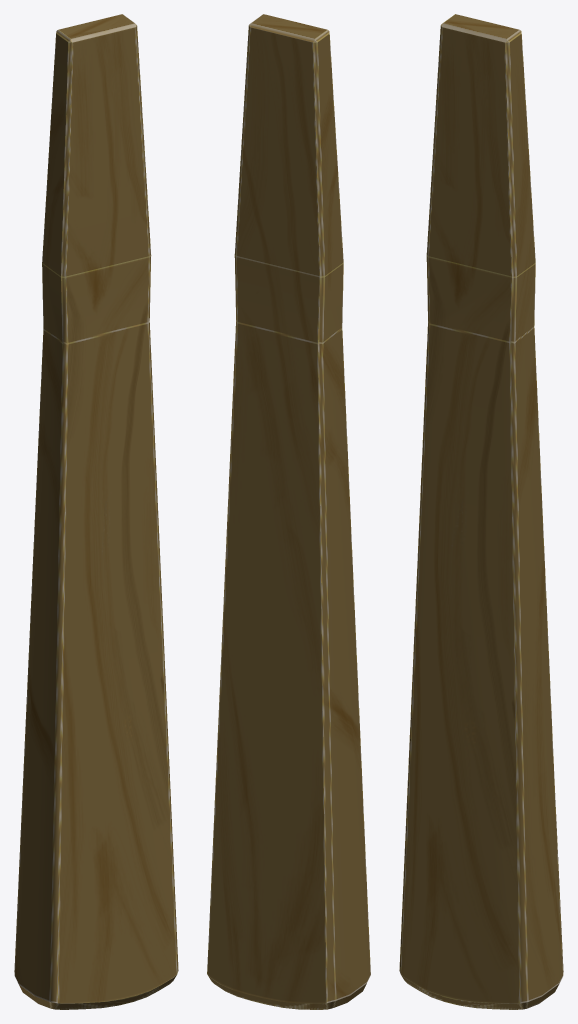
The picture shows the model from 3 angles, left to right: view 1: azimuth 30°, elevation 25°; view 2: azimuth 150°, elevation 25°; view 3: azimuth 330°, elevation 25°; orthographic projection.
Visible parts, largest first — view 1: hammerwood_pCube2; view 2: hammerwood_pCube2; view 3: hammerwood_pCube2.
Part boxes in pixels (bbox=[...]): hammerwood_pCube2: bbox=[14, 14, 178, 1009]; hammerwood_pCube2: bbox=[207, 14, 370, 1009]; hammerwood_pCube2: bbox=[399, 14, 563, 1009].
Size of the model in its own units: 1.64 by 10.78 by 1.35.
1 material, 1 textured.
